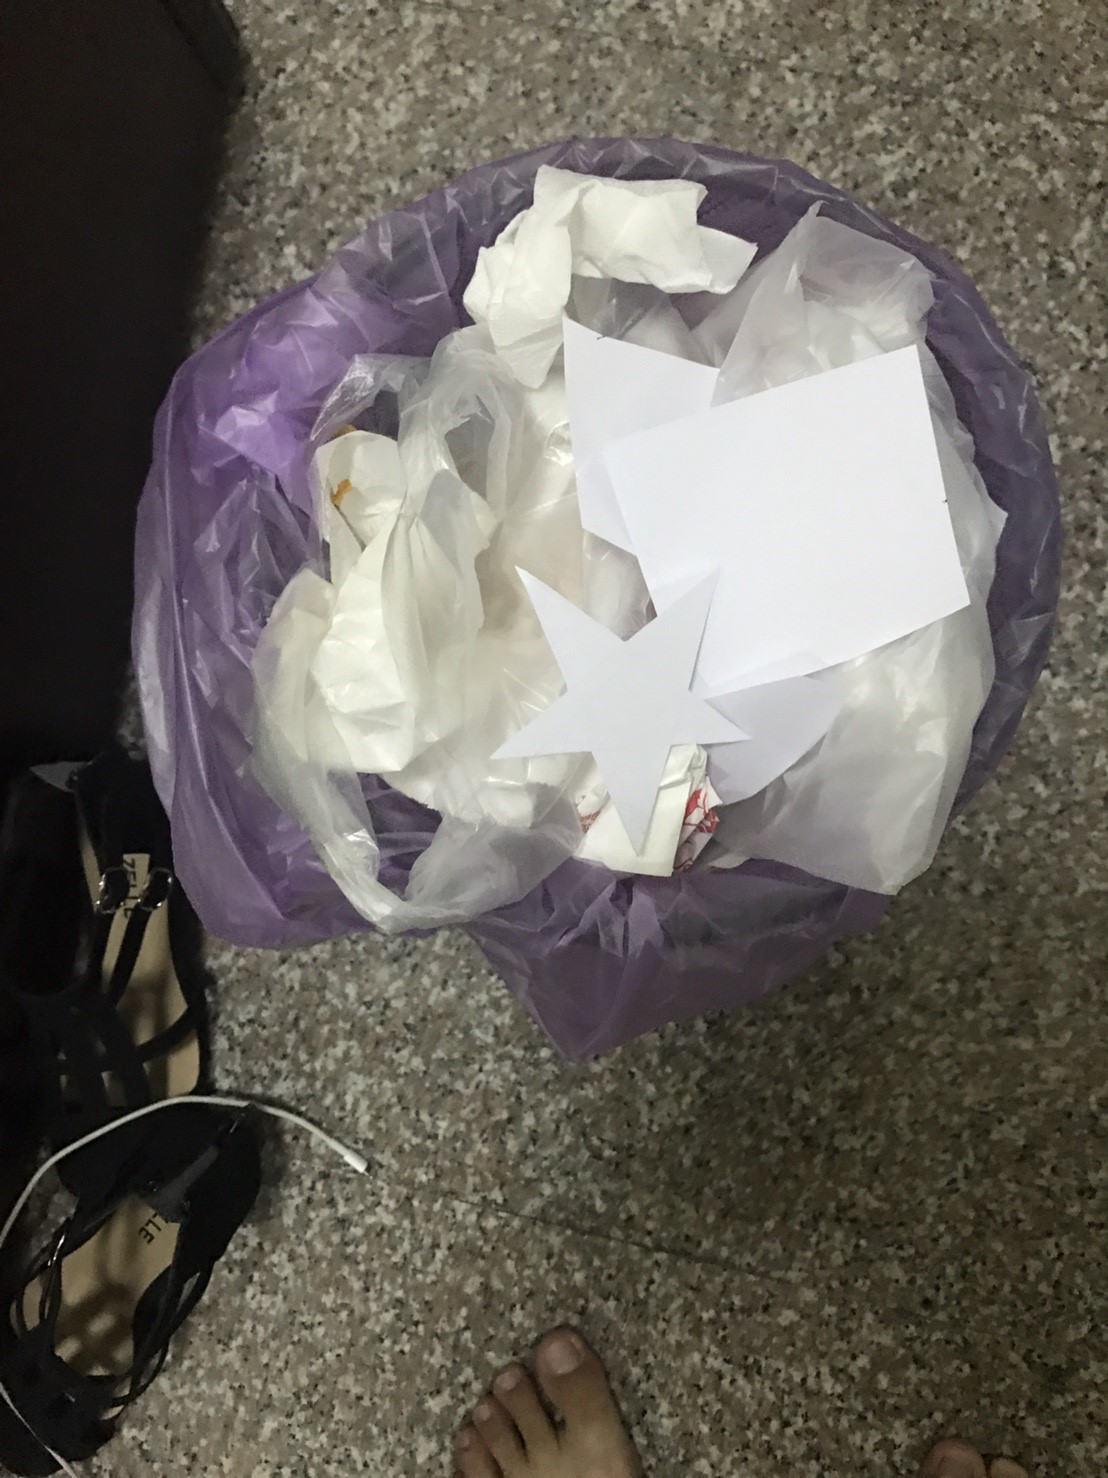star: (477, 556, 746, 883)
